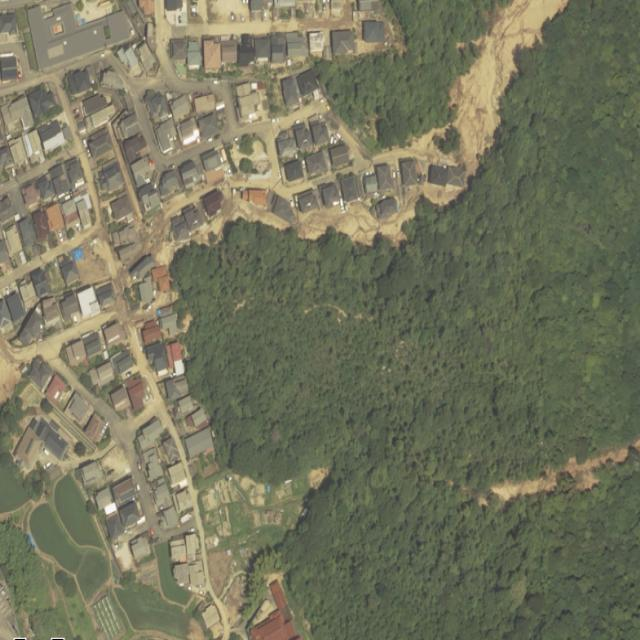landslide: (452, 0, 568, 174), (492, 441, 640, 503)
